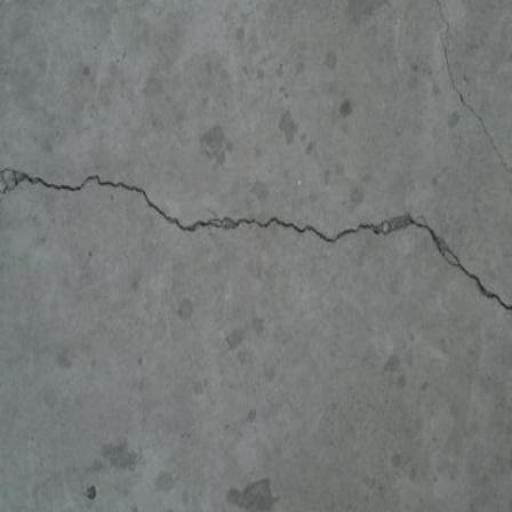spalling: (8, 143, 511, 335)
